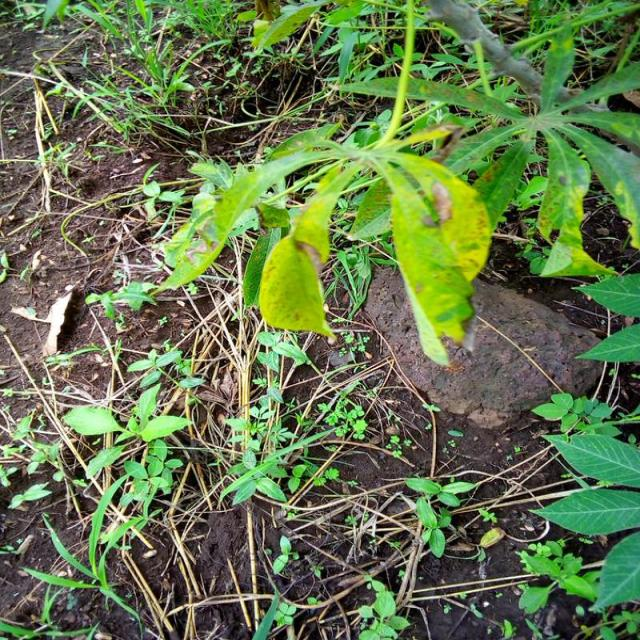cassava leaf: (379, 149, 492, 367), (257, 232, 336, 342)
